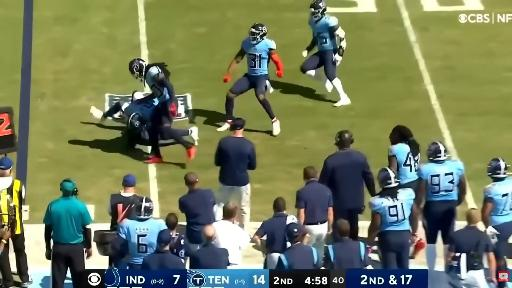Helmet: (427, 142, 450, 161), (378, 168, 399, 188), (133, 197, 153, 218), (487, 158, 509, 177), (129, 58, 146, 81), (249, 23, 267, 43), (127, 113, 144, 133), (310, 0, 326, 19)
Jersey: (118, 219, 166, 264), (370, 188, 415, 231), (419, 160, 464, 200), (484, 178, 511, 225), (242, 37, 275, 75), (389, 143, 419, 183), (309, 15, 338, 51), (124, 97, 158, 122), (145, 66, 169, 100)
Player: (217, 23, 283, 135), (129, 58, 196, 163), (417, 142, 466, 269), (300, 0, 350, 106), (368, 168, 419, 269), (91, 91, 158, 147), (118, 197, 166, 269), (482, 158, 511, 272), (388, 126, 419, 191), (388, 126, 419, 189)
